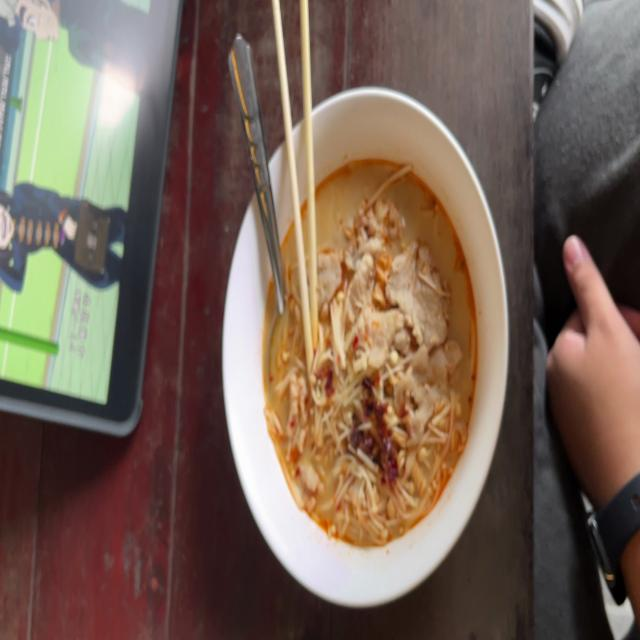noodle: (259, 154, 483, 557)
